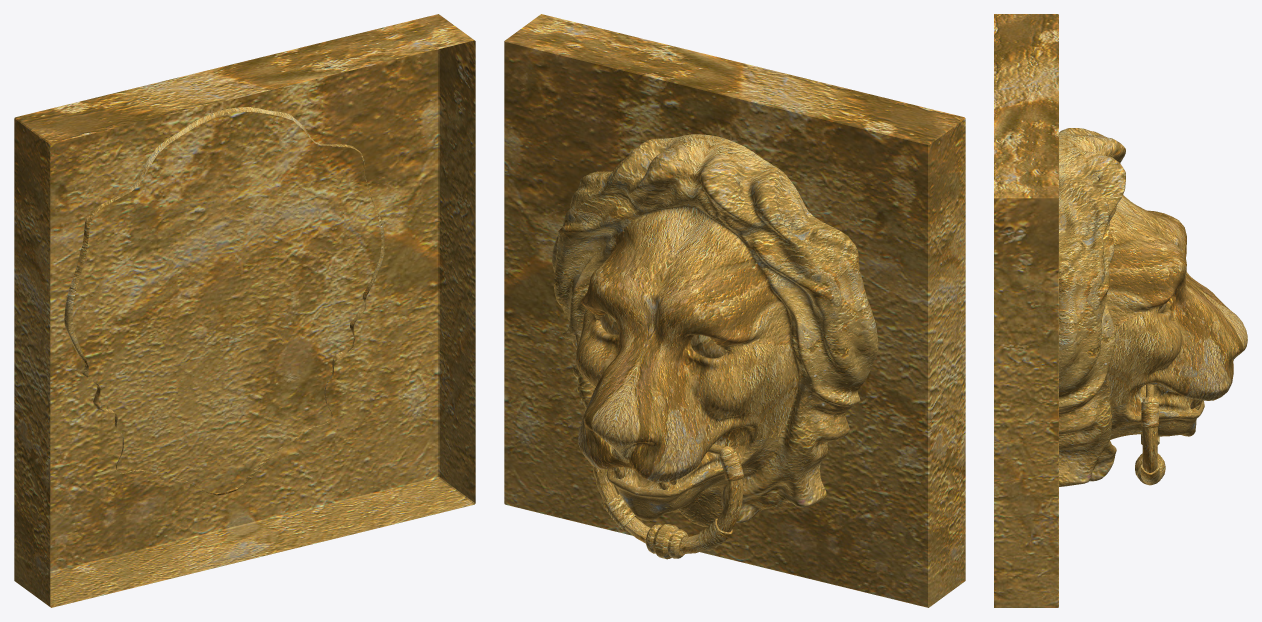
File: head.obj
The picture shows the model from 3 angles, left to right: view 1: azimuth 30°, elevation 25°; view 2: azimuth 150°, elevation 25°; view 3: azimuth 270°, elevation 25°; orthographic projection. The views are drawn at different scales.
Parts seen in each view (by area): view 1: Lion_Head; view 2: Lion_Head; view 3: Lion_Head.
Boxes of the visible parts, <box> form: Lion_Head: <box>14,14,475,607</box>; Lion_Head: <box>504,14,965,607</box>; Lion_Head: <box>994,14,1247,607</box>.
Bounding box in the file's own units: 64.88 × 67.68 × 37.87.
